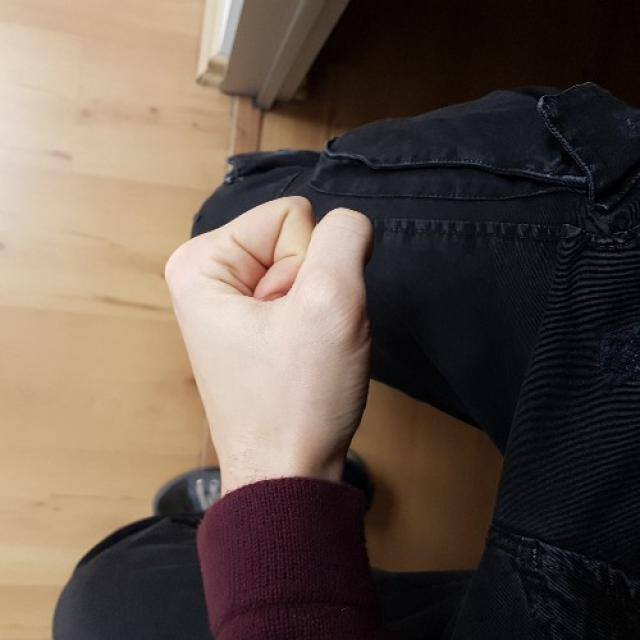rock: (158, 194, 379, 476)
